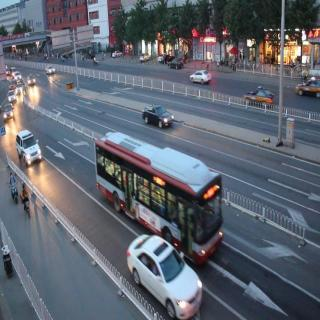BigCar: (90, 117, 235, 254)
Car: (122, 230, 203, 319), (139, 95, 176, 133), (13, 127, 44, 170), (244, 74, 276, 111), (186, 62, 214, 92), (293, 78, 320, 106), (167, 56, 184, 75)
